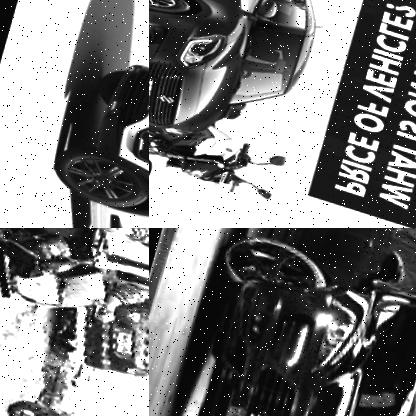bike: (149, 98, 292, 216), (0, 228, 131, 349), (4, 384, 126, 416)
car: (161, 228, 416, 416), (149, 0, 321, 164), (32, 39, 149, 228), (57, 268, 149, 385)
